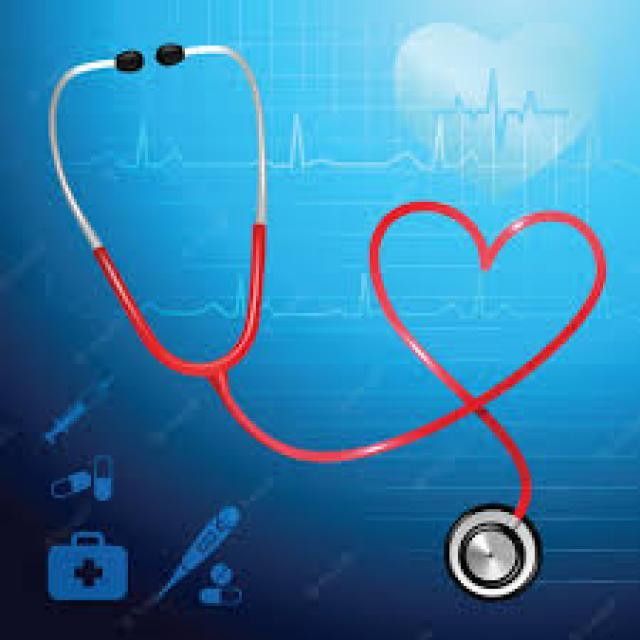stethoscope: (36, 17, 571, 566)
